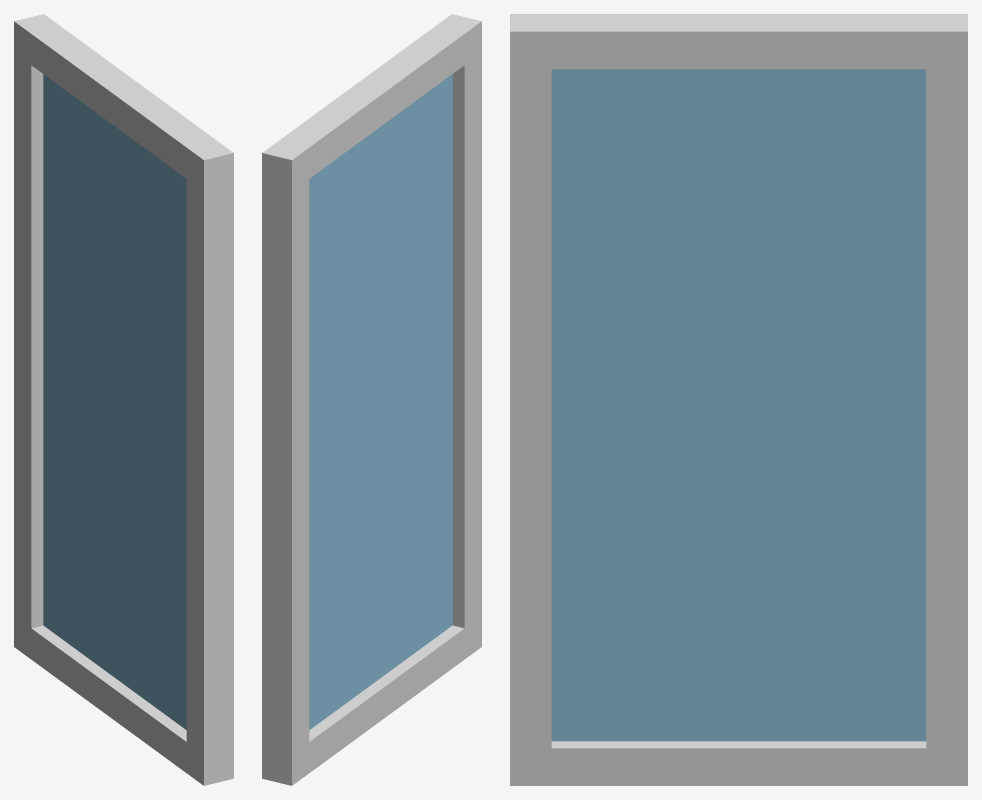
Rendered from okno_wysokie_v2b.fbx.
3 views of the same model, side by side, from view 1: azimuth 30°, elevation 25°; view 2: azimuth 150°, elevation 25°; view 3: azimuth 270°, elevation 25° (orthographic). The views are drawn at different scales.
Parts seen in each view (by area): view 1: Cube.004, Cube, Cube.001, Cube.003, Cube.002; view 2: Cube.004, Cube.001, Cube, Cube.003, Cube.002; view 3: Cube.004, Cube, Cube.001, Cube.003, Cube.002.
Boxes of the visible parts, left/top/right/bottom form: Cube.004: left=43, top=74, right=186, bottom=729; Cube: left=186, top=140, right=233, bottom=785; Cube.001: left=14, top=14, right=60, bottom=658; Cube.003: left=23, top=26, right=224, bottom=184; Cube.002: left=23, top=623, right=186, bottom=772; Cube.004: left=309, top=74, right=452, bottom=729; Cube.001: left=262, top=140, right=309, bottom=785; Cube: left=435, top=14, right=481, bottom=658; Cube.003: left=271, top=21, right=473, bottom=183; Cube.002: left=309, top=624, right=472, bottom=772; Cube.004: left=551, top=69, right=926, bottom=741; Cube: left=510, top=14, right=551, bottom=785; Cube.001: left=926, top=14, right=967, bottom=785; Cube.003: left=531, top=14, right=946, bottom=69; Cube.002: left=531, top=741, right=946, bottom=785.
Bounding box in the file's own units: 10 × 200 × 110.
